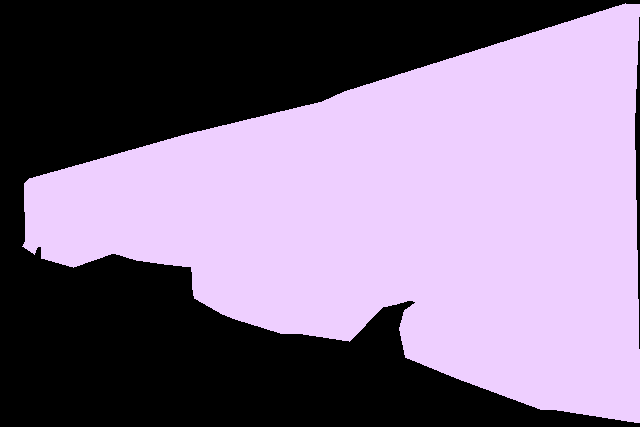Train: (22, 3, 640, 424)
